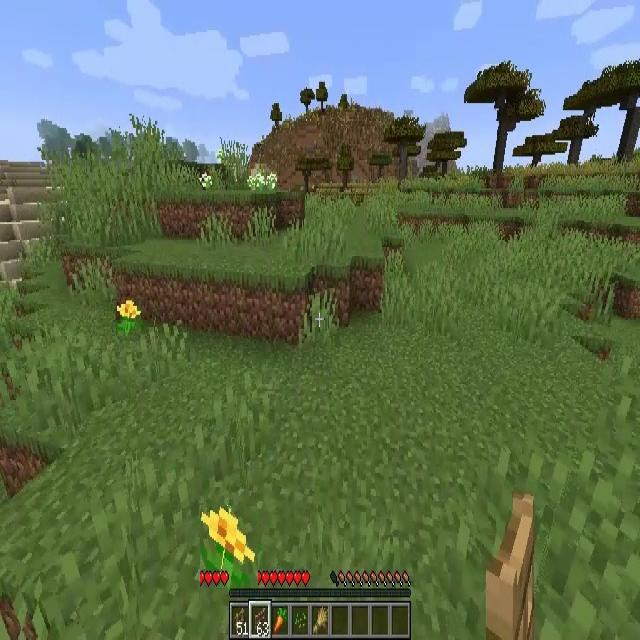flower: (200, 506, 258, 588), (116, 298, 141, 338), (201, 172, 212, 194), (246, 173, 257, 193), (266, 172, 277, 190), (257, 172, 266, 190)
